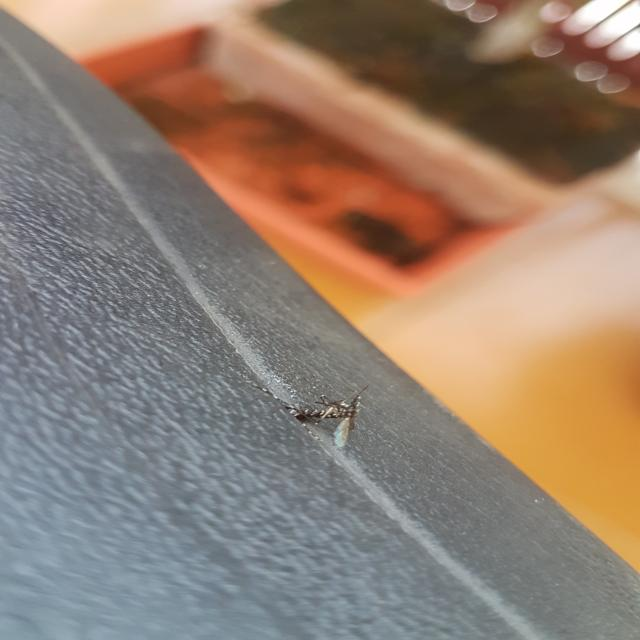albopictus: (256, 378, 381, 450)
